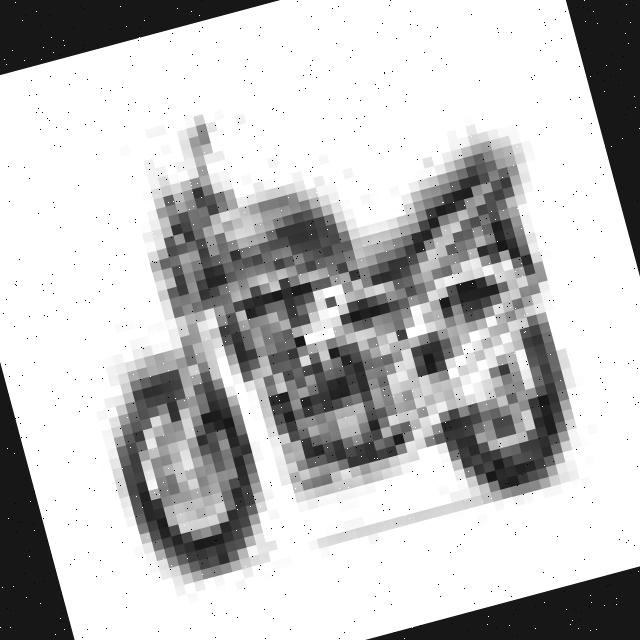mopeds: (31, 65, 614, 610)
